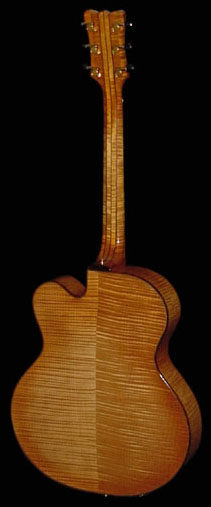guitar: (9, 9, 204, 497)
